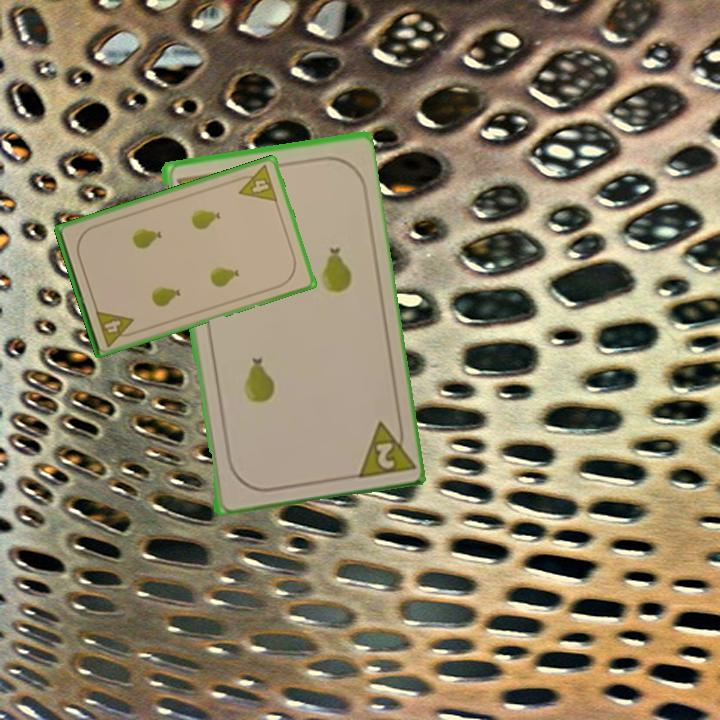2p: (349, 413, 414, 481)
4p: (231, 161, 280, 205), (92, 306, 139, 349)
